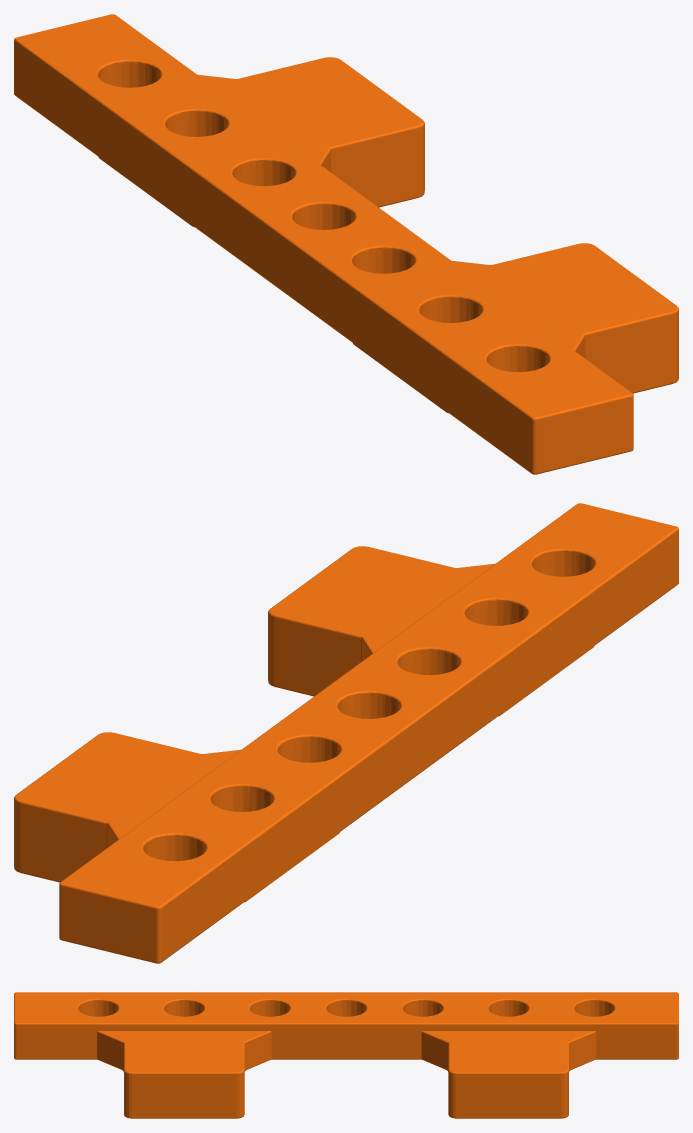
The model's file is support_frame.glb.
3 views of the same model, one above another, from view 1: azimuth 30°, elevation 25°; view 2: azimuth 150°, elevation 25°; view 3: azimuth 270°, elevation 25° (orthographic). The views are drawn at different scales.
Visible parts, largest first — view 1: stress bridge fill; view 2: stress bridge fill; view 3: stress bridge fill.
Part boxes in pixels (x1,y1,x2,y2): stress bridge fill: [14, 14, 678, 474]; stress bridge fill: [14, 503, 678, 963]; stress bridge fill: [14, 992, 678, 1118].
Size of the model in its own units: 0.6431 by 0.2177 by 2.45.
